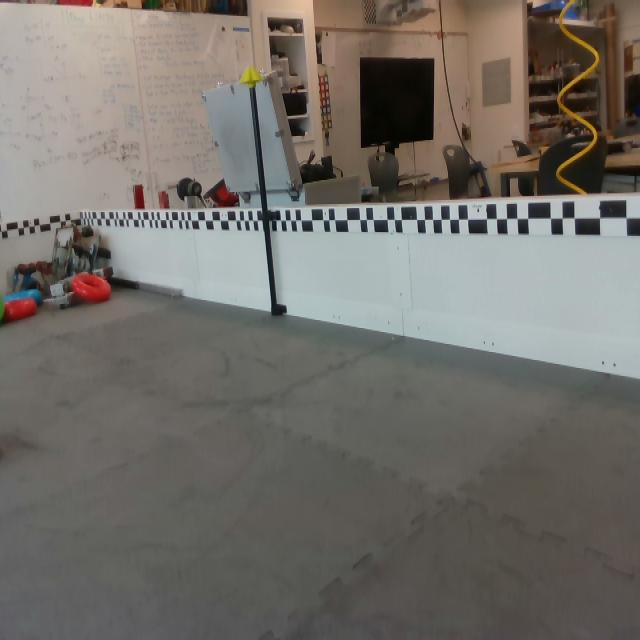Blue-Ring: (3, 289, 42, 307)
Red-Ring: (69, 273, 111, 301), (3, 299, 38, 324)
Yellow-Stake-Head: (239, 65, 265, 85)
